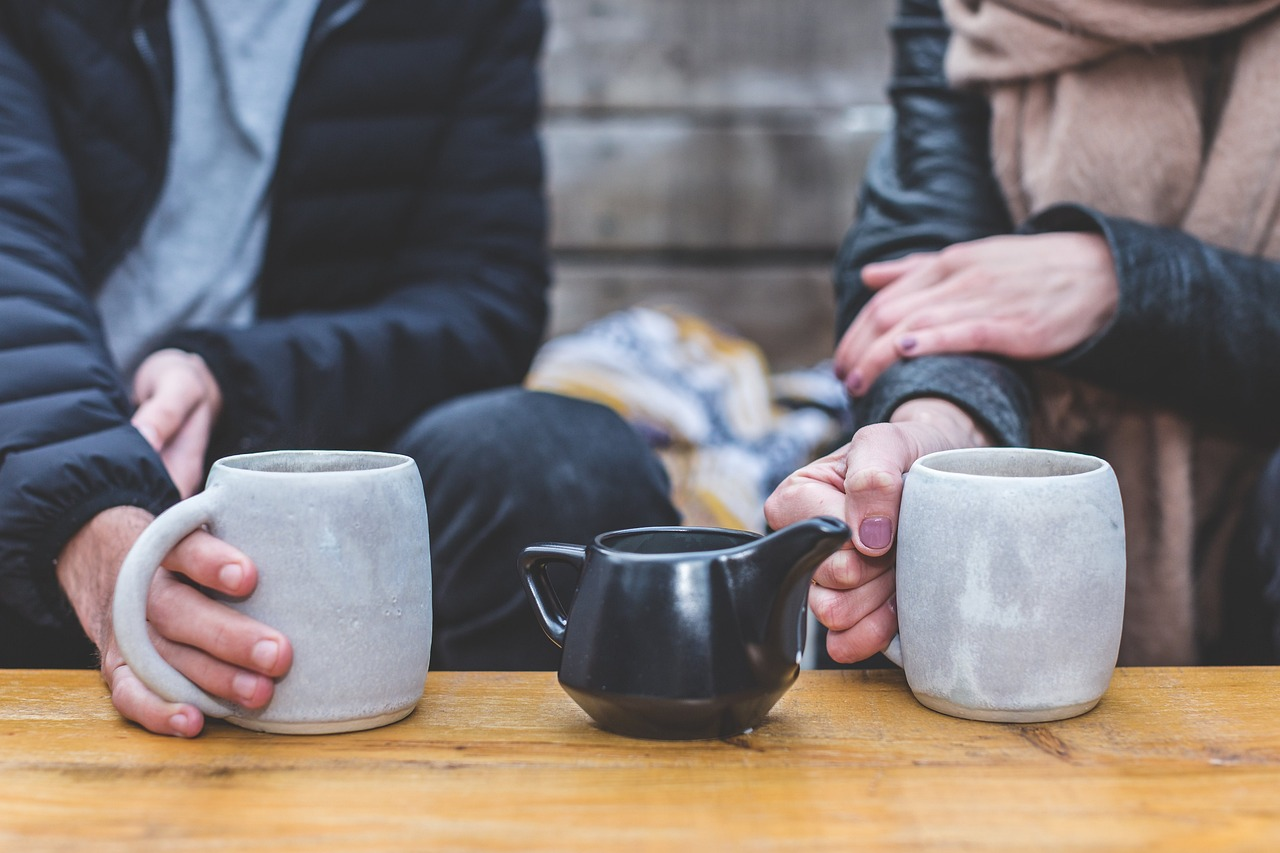mug: (113, 408, 456, 780), (791, 396, 1109, 771)
